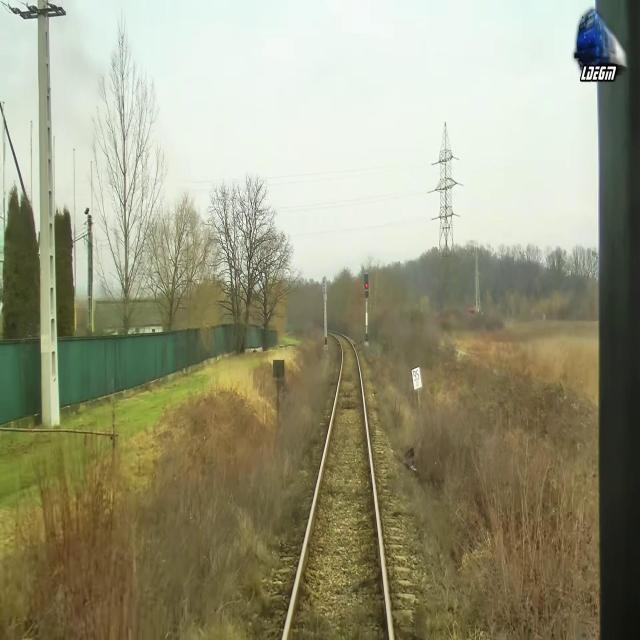rail-track: (286, 335, 388, 639)
